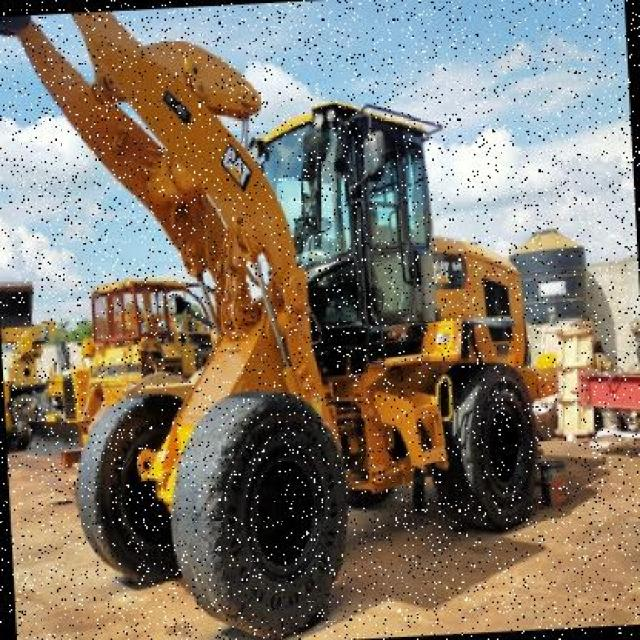buldozerpayloadergrader: (0, 0, 548, 640)
